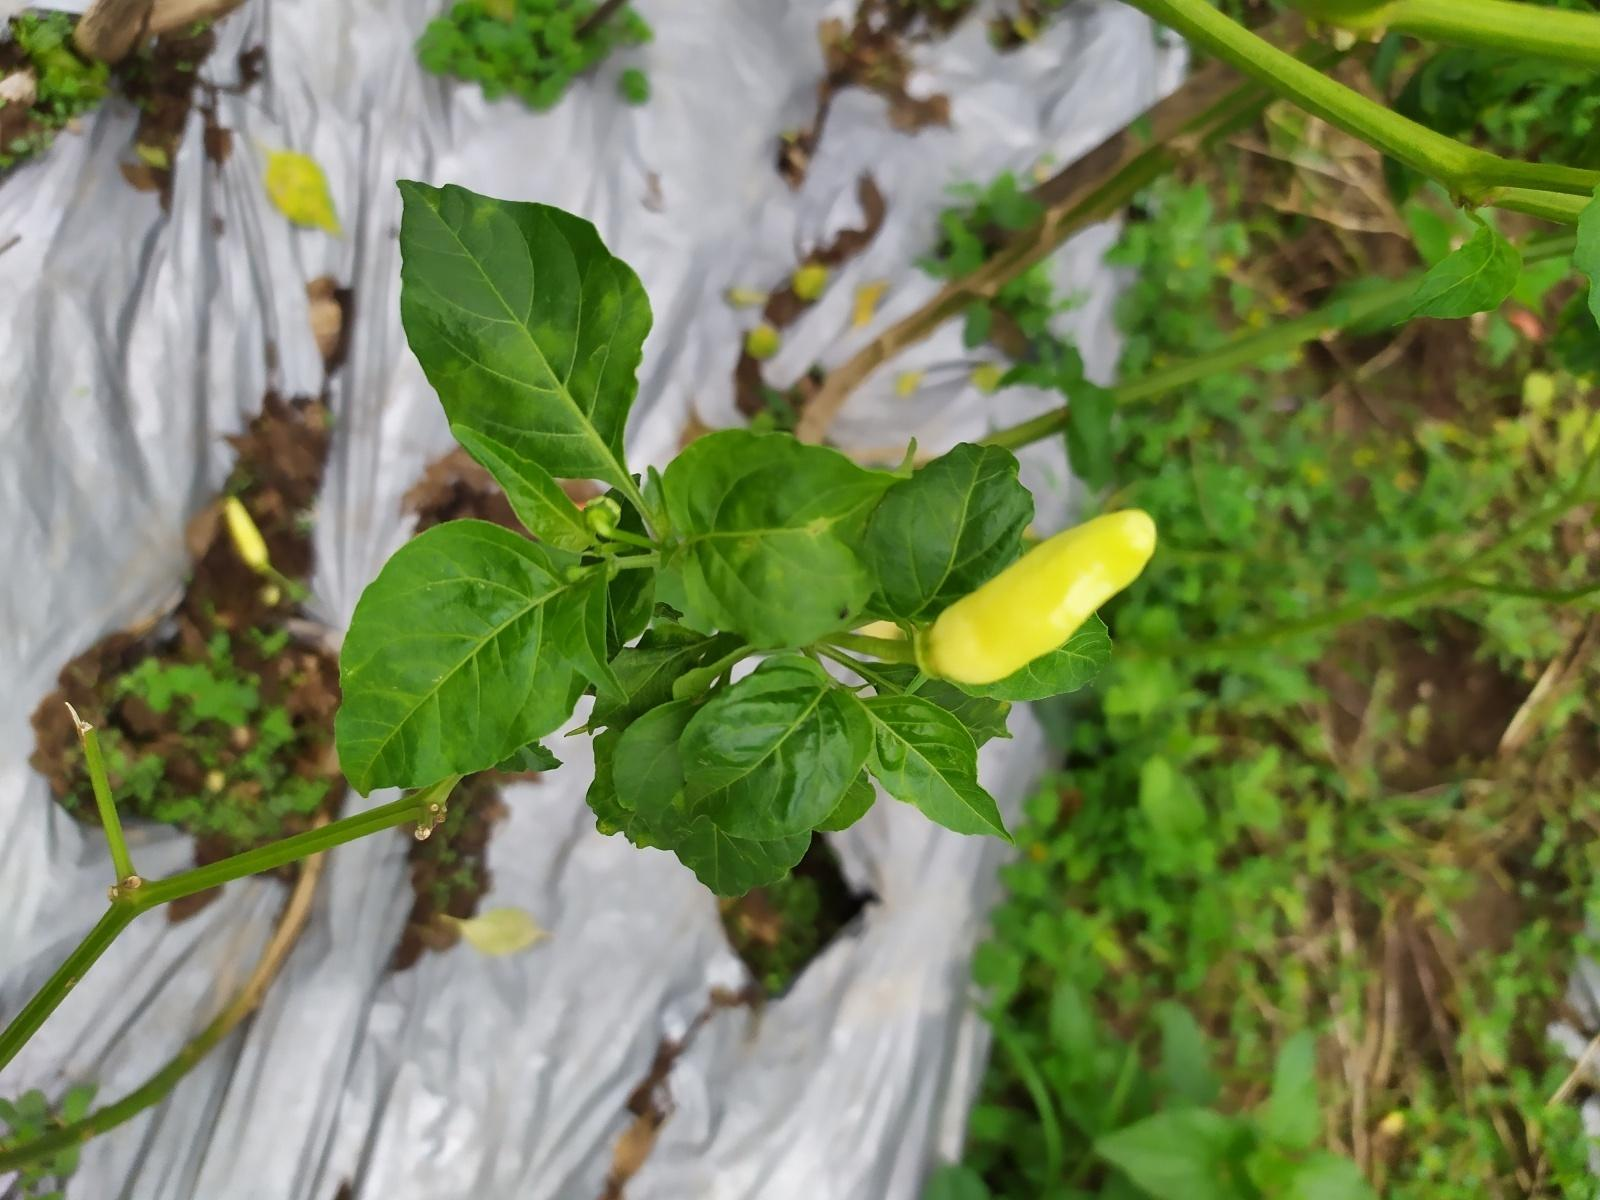cabai_normal: (931, 508, 1158, 687)
